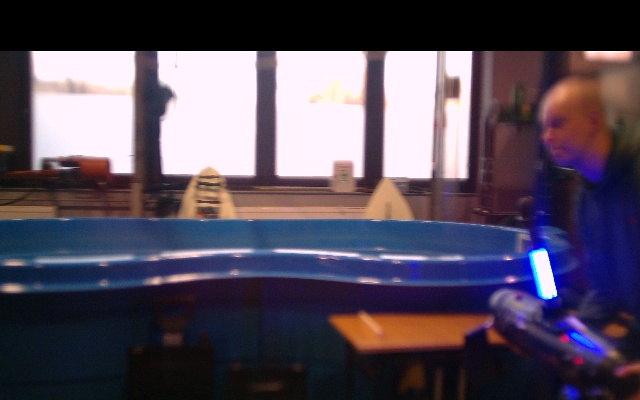blue: (529, 246, 559, 301)
